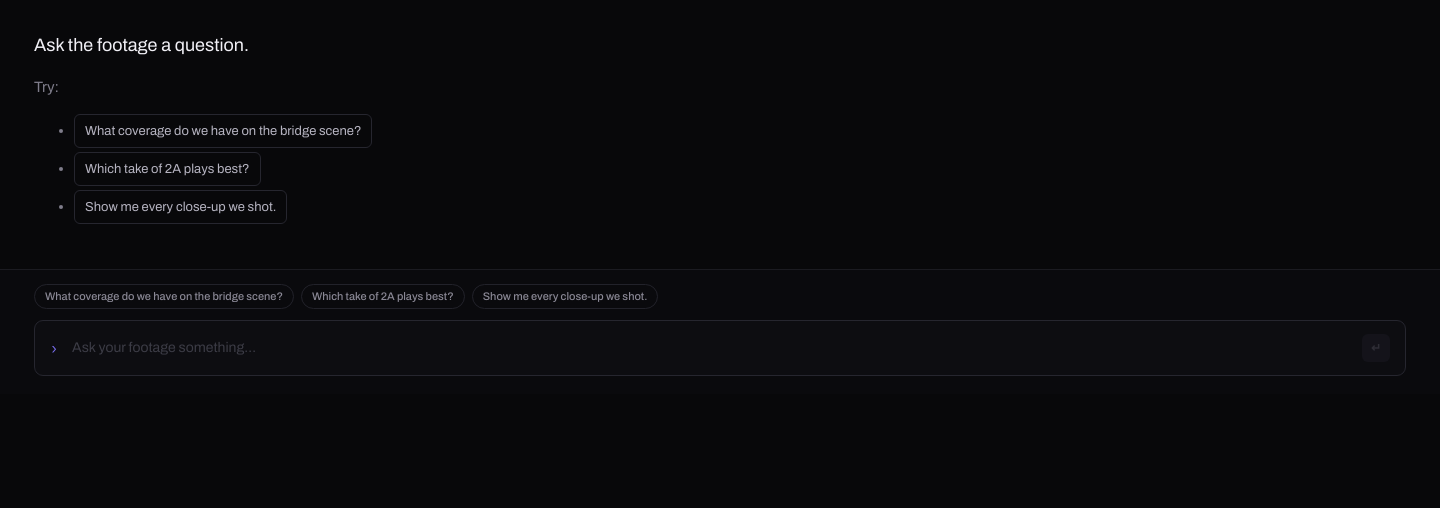
it: SessionView › renders the no-dialogue honesty card when dialogue evidence is real zero rows
Step 1. Type "What dialogue is in scene S03 take 3?" into the text box labelled "Ask your footage something" → {"x": 710, "y": 348}, box 70,336 -> 1350,360
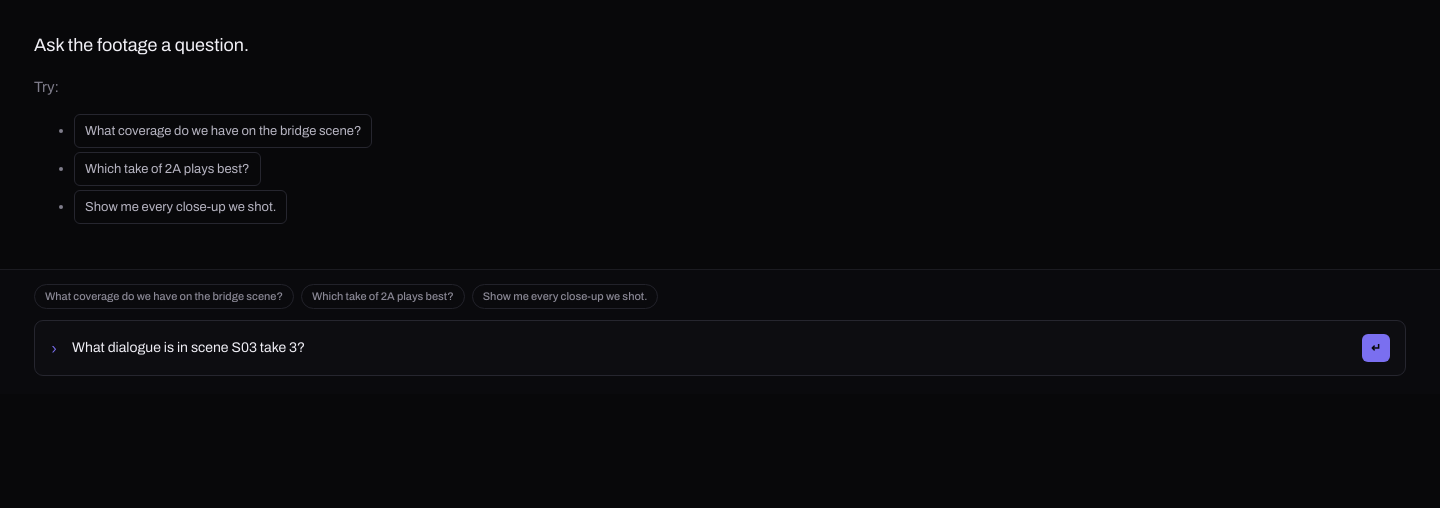
Step 2. Press Enter in the text box named "Ask your footage something", box 70,336 -> 1350,360
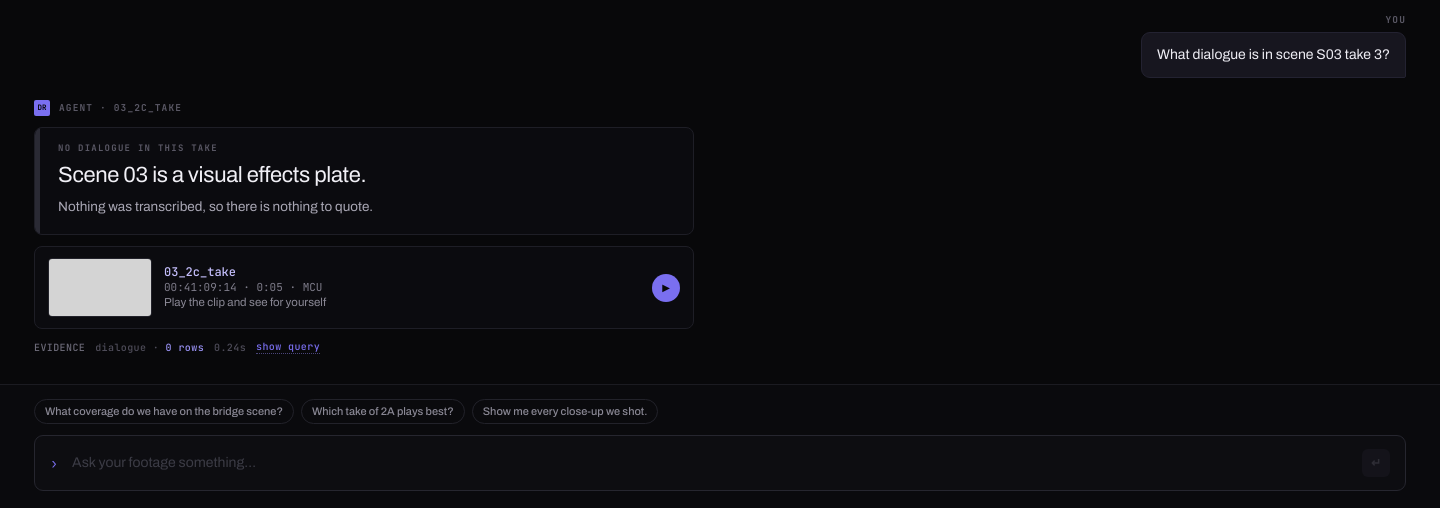
Now the text "NO DIALOGUE IN THIS TAKE" is shown, box 58,142 -> 218,154
Now the text "Scene 03 is a visual effects plate." is shown, box 58,161 -> 373,189
Now the text "Nothing was transcribed, so there is nothing to quote." is shown, box 58,197 -> 373,218
